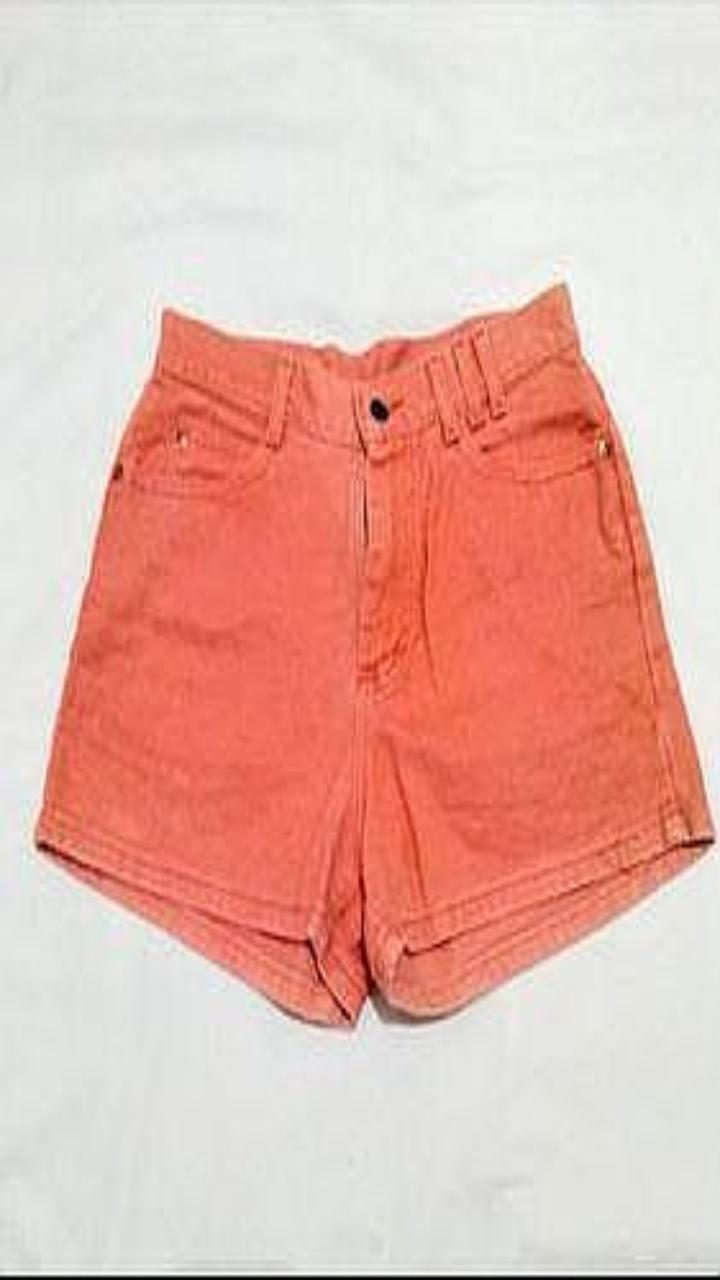Shorts: (35, 283, 714, 1024)
